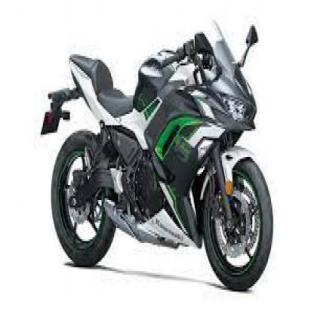Motocicleta: (37, 16, 275, 294)
